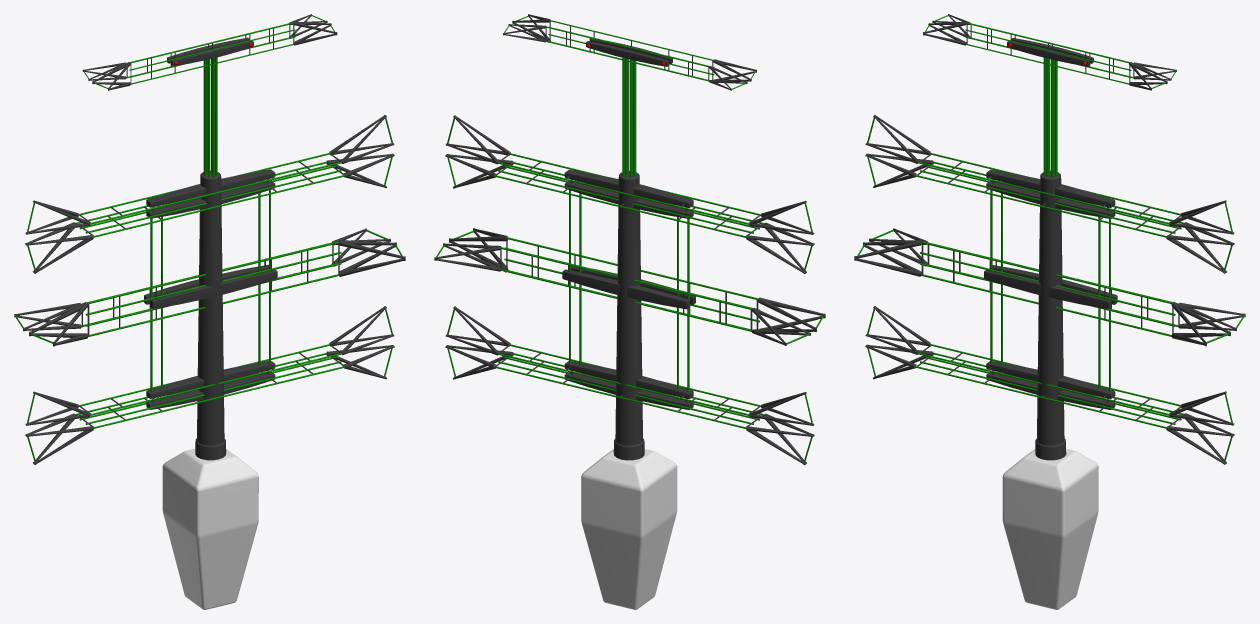
File: SM_RadioLine.fbx
3 renders of one model, left to right at view 1: azimuth 30°, elevation 25°; view 2: azimuth 150°, elevation 25°; view 3: azimuth 330°, elevation 25°, orthographic.
Visible parts, largest first — view 1: SM_RadioLine; view 2: SM_RadioLine; view 3: SM_RadioLine.
Part boxes in pixels (x1,y1,x2,y2): SM_RadioLine: (14,14,405,609); SM_RadioLine: (434,14,825,609); SM_RadioLine: (854,14,1245,609).
Size of the model in its own units: 1760 by 2563 by 333.
